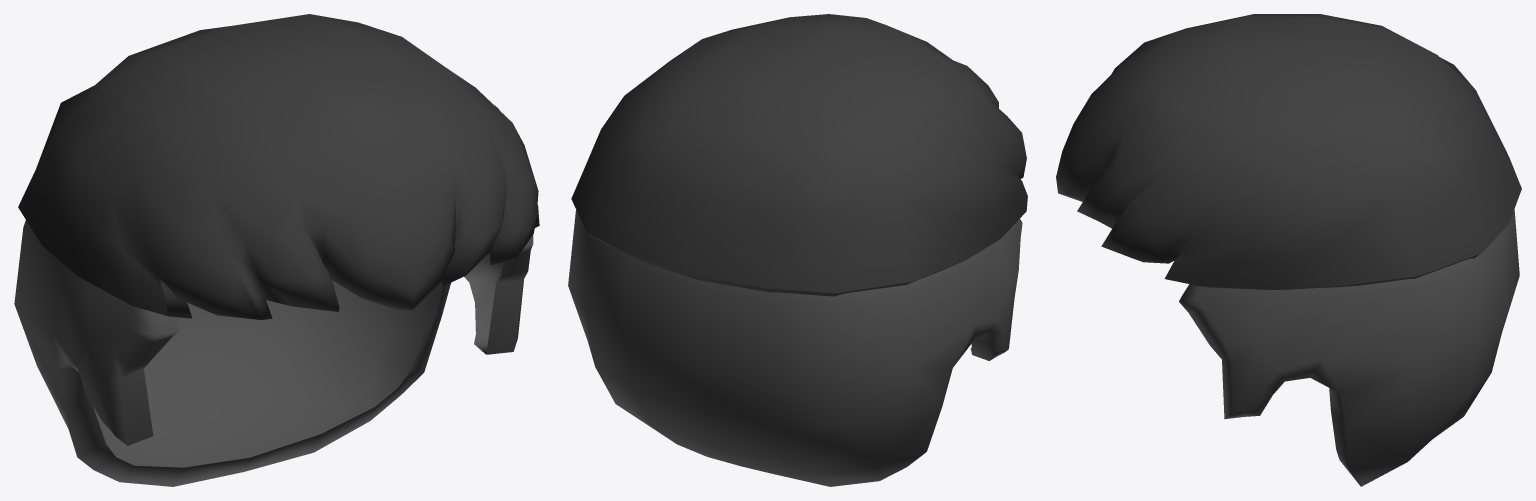
The model's file is Hair_15.fbx.
3 renders of one model, left to right at view 1: azimuth 30°, elevation 25°; view 2: azimuth 150°, elevation 25°; view 3: azimuth 270°, elevation 25°, orthographic. The views are drawn at different scales.
Visible parts, largest first — view 1: Hair_15; view 2: Hair_15; view 3: Hair_15.
Boxes of the visible parts, box(x1,y1,x2,y2) form: Hair_15: box(14, 14, 539, 486); Hair_15: box(568, 14, 1027, 486); Hair_15: box(1056, 14, 1521, 486).
Size of the model in its own units: 52.87 by 53.2 by 54.96.
